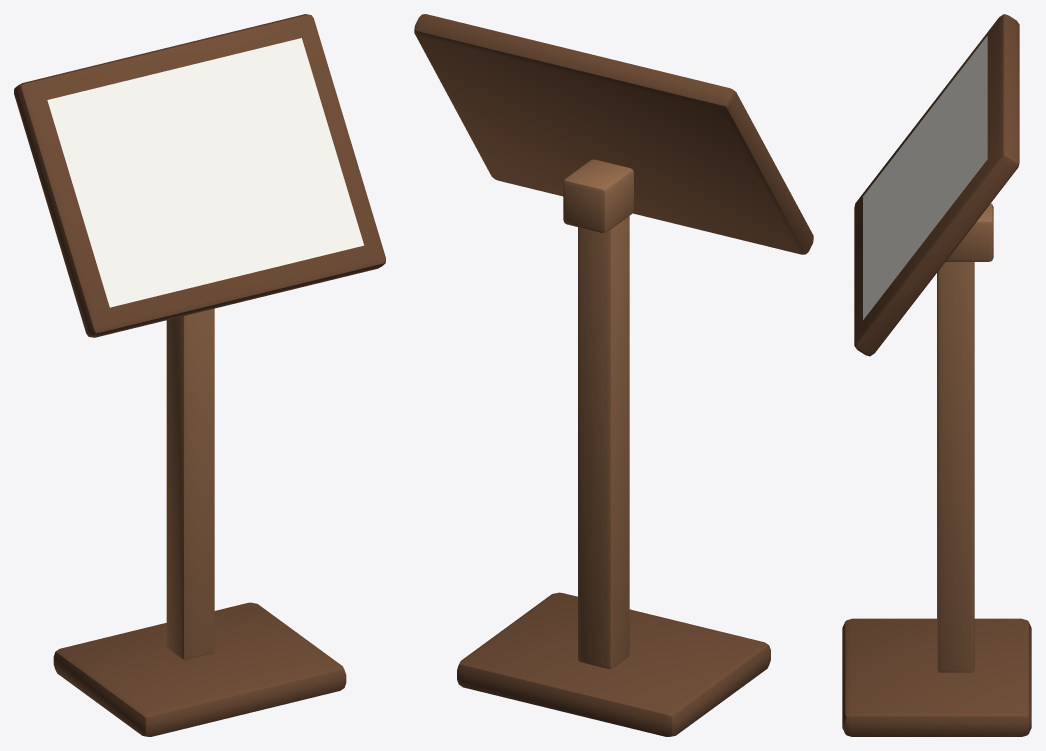
Rendered from info-board.glb.
The picture shows the model from 3 angles, left to right: view 1: azimuth 30°, elevation 25°; view 2: azimuth 150°, elevation 25°; view 3: azimuth 270°, elevation 25°; orthographic projection. The views are drawn at different scales.
Visible parts, largest first — view 1: info-board, content_area; view 2: info-board; view 3: info-board, content_area.
Boxes of the visible parts, <box> form: info-board: <box>14,14,385,736</box>; content_area: <box>47,38,364,307</box>; info-board: <box>414,14,813,736</box>; info-board: <box>842,14,1031,736</box>; content_area: <box>863,36,987,319</box>.
Size of the model in its own units: 0.72 by 1.42 by 0.4.
